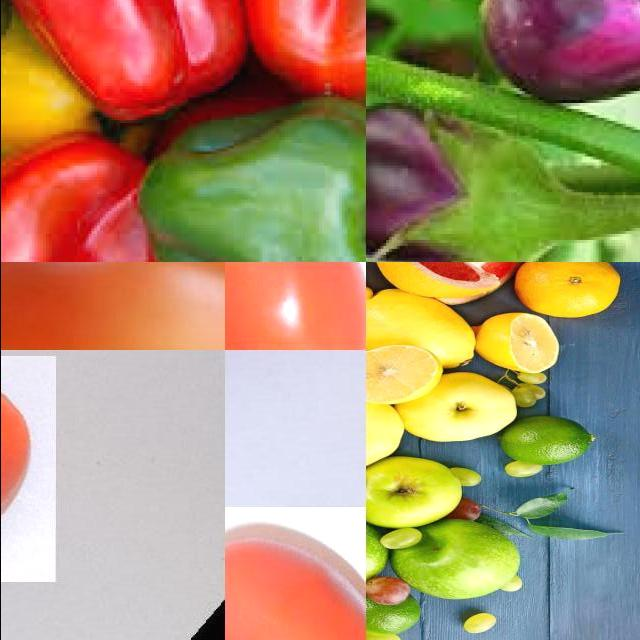bell_pepper: (140, 93, 366, 263), (1, 1, 247, 117)
eggplant: (366, 107, 566, 263), (482, 1, 640, 100)
tomato: (1, 263, 225, 351), (225, 508, 366, 640), (1, 357, 56, 583), (225, 263, 366, 351)
